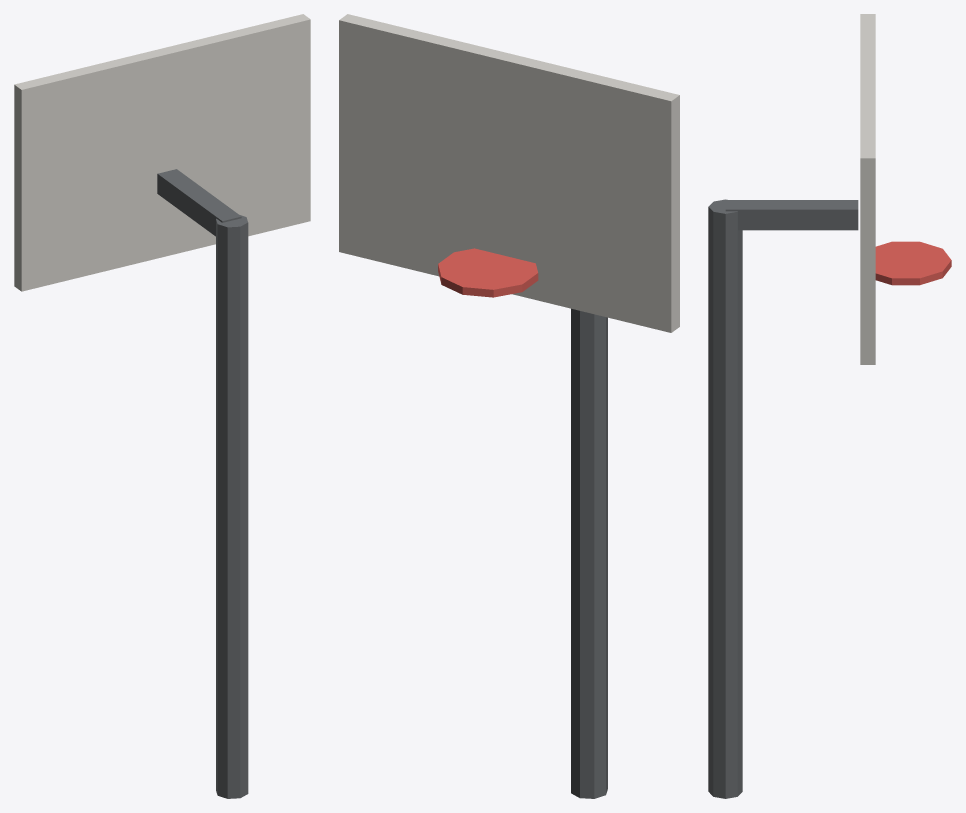
Rendered from BasketballHoop.glb.
3 views of the same model, side by side, from view 1: azimuth 30°, elevation 25°; view 2: azimuth 150°, elevation 25°; view 3: azimuth 270°, elevation 25° (orthographic). The views are drawn at different scales.
Visible parts, largest first — view 1: BasketballHoop; view 2: BasketballHoop; view 3: BasketballHoop.
Part boxes in pixels (box(x1,y1,x2,y2)): BasketballHoop: box(14, 14, 310, 798); BasketballHoop: box(339, 14, 679, 798); BasketballHoop: box(708, 14, 951, 798).
Bounding box in the file's own units: 1.8 × 4.1 × 1.28.
